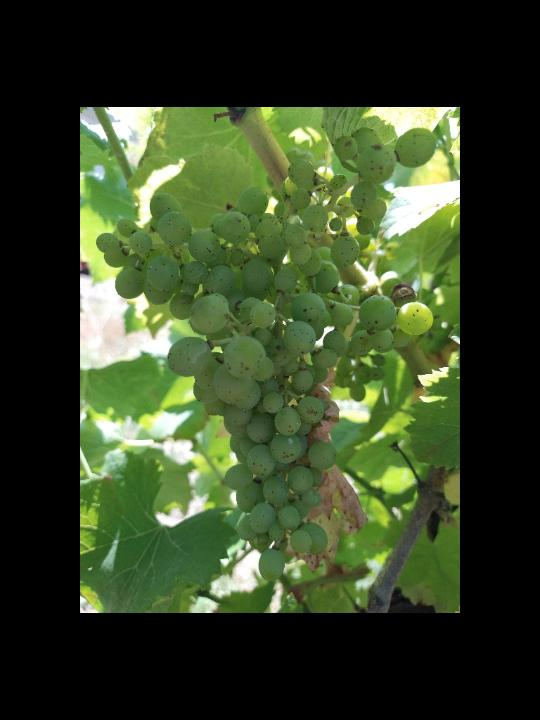grape: (94, 127, 437, 584)
